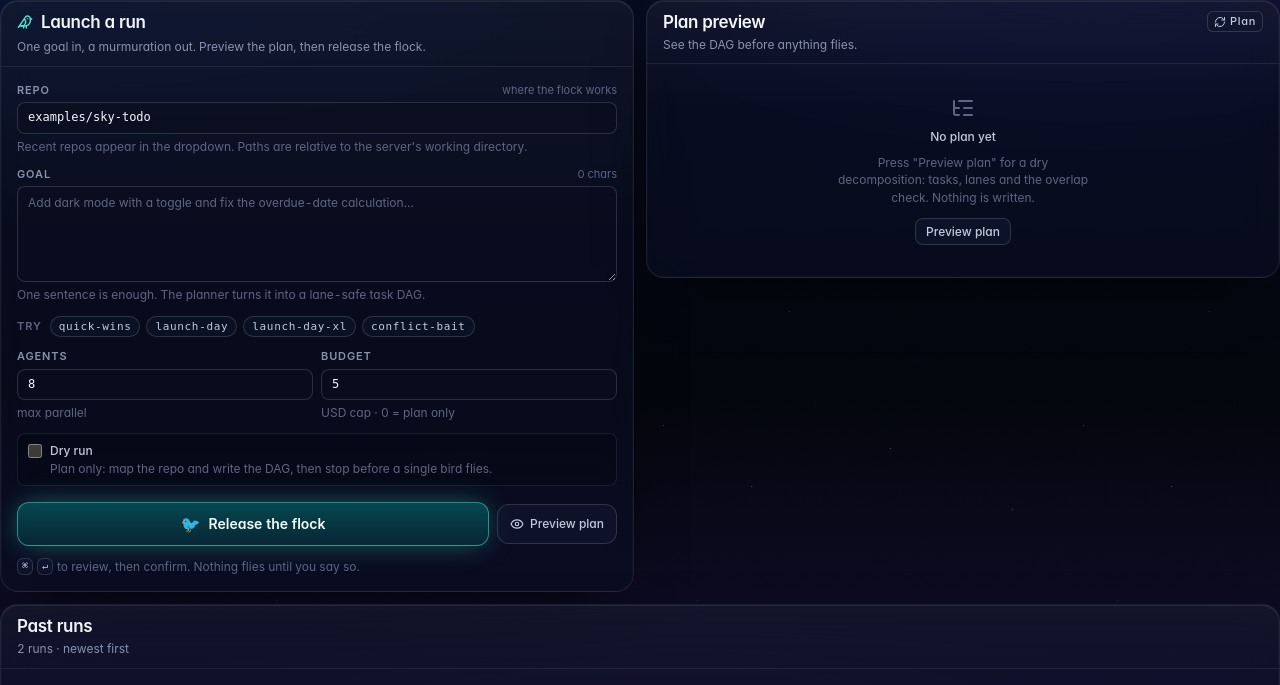
Test: plan preview › marks the plan stale when the form changes after previewing
Click the button "quick-wins" at point(95, 326), box x1=50 y1=316 x2=140 y2=337
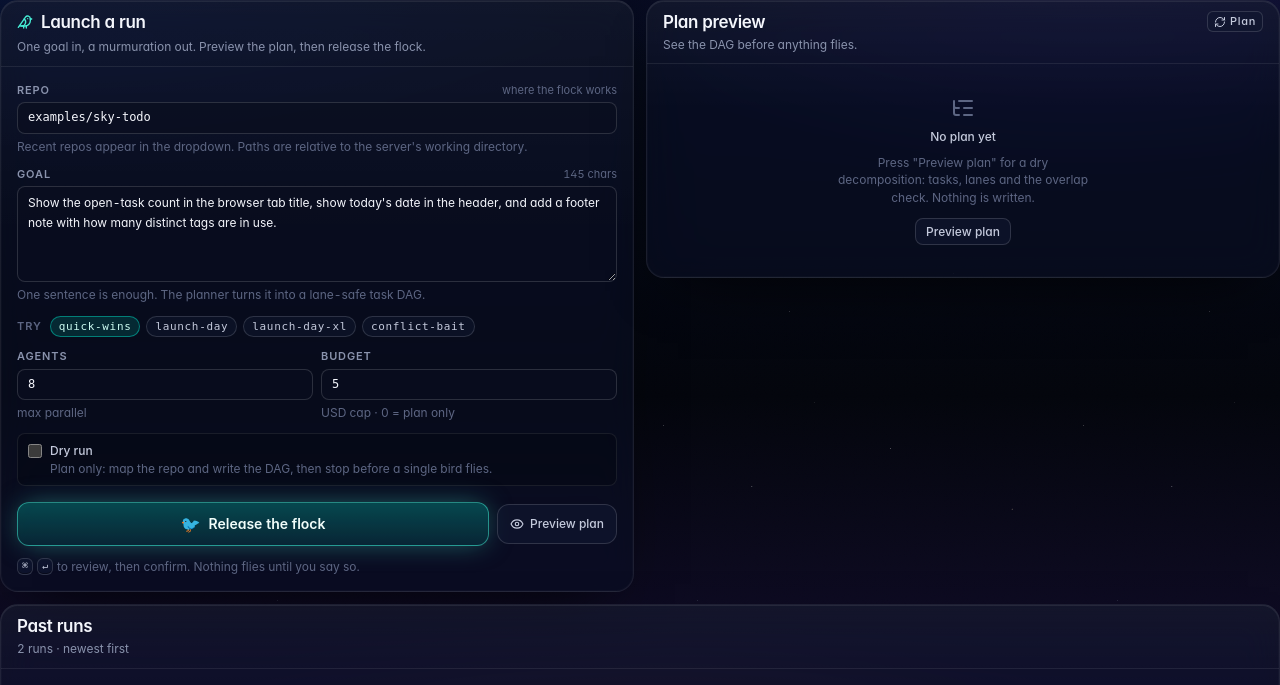
Click the button with test id "launch-preview-button" at point(557, 524), box x1=497 y1=504 x2=617 y2=544
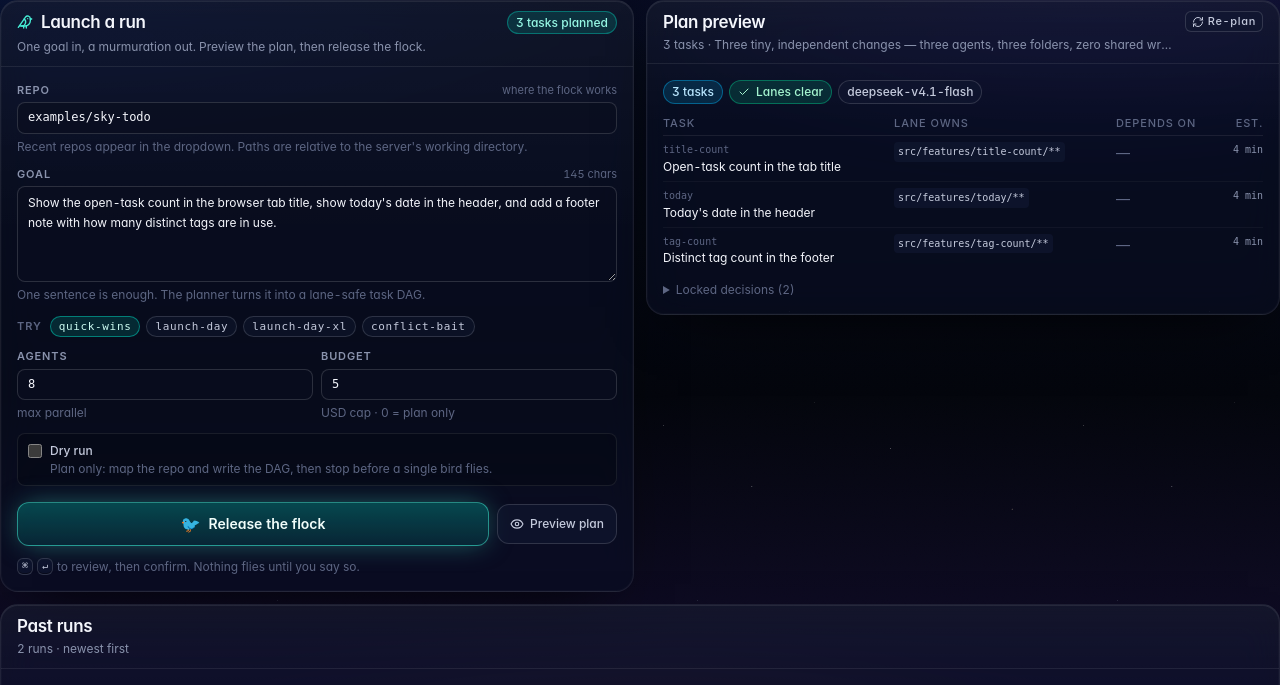
Expected: the element with test id "launch-preview-ready" is shown, x1=663 y1=80 x2=1263 y2=298
Replace the text in the text box with test id "launch-goal" with "A different goal that needs a different DAG" at point(317, 234), box x1=17 y1=186 x2=617 y2=282
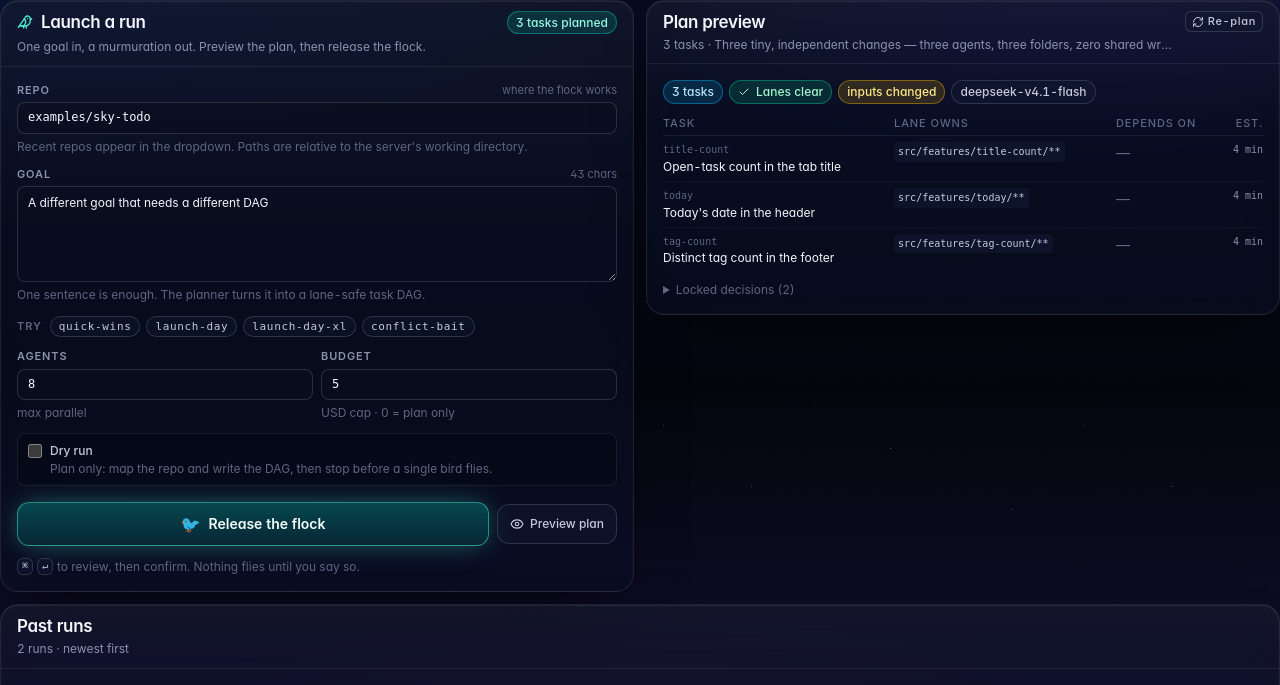
Expected: the element with test id "launch-preview" shows "inputs changed", x1=847 y1=84 x2=936 y2=99
